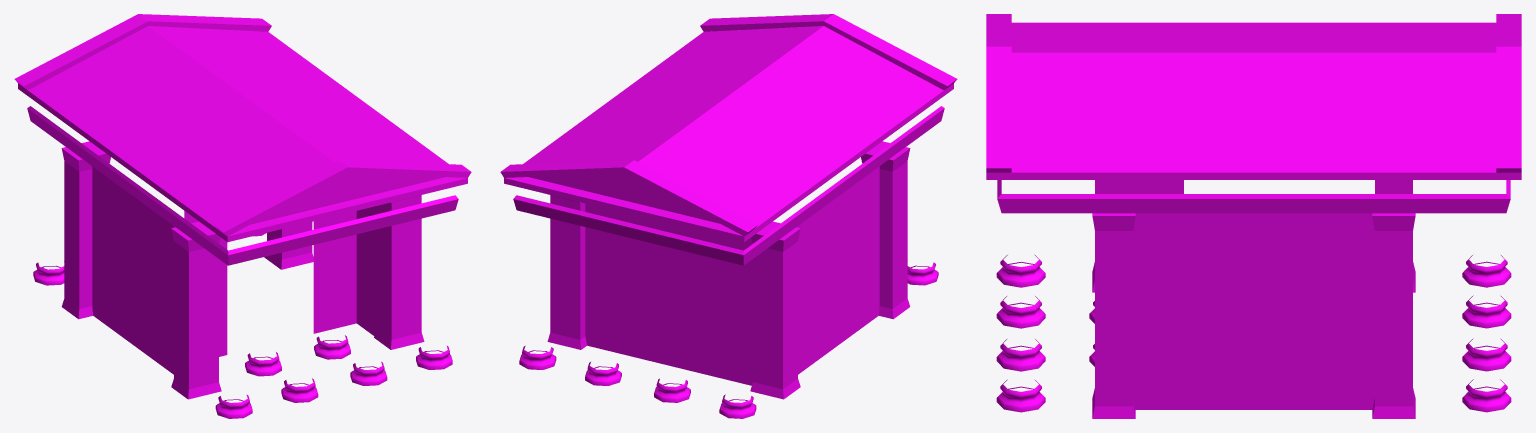
Rendered from athen_temple_struct.glb.
The picture shows the model from 3 angles, left to right: view 1: azimuth 30°, elevation 25°; view 2: azimuth 150°, elevation 25°; view 3: azimuth 270°, elevation 25°; orthographic projection. The views are drawn at different scales.
Visible parts, largest first — view 1: athen_temple_mesh-mesh; view 2: athen_temple_mesh-mesh; view 3: athen_temple_mesh-mesh.
Part boxes in pixels (left/top/right/bottom): athen_temple_mesh-mesh: left=14, top=14, right=471, bottom=418; athen_temple_mesh-mesh: left=500, top=14, right=957, bottom=418; athen_temple_mesh-mesh: left=986, top=14, right=1521, bottom=418.
Size of the model in its own units: 15.32 by 13.81 by 22.45.
